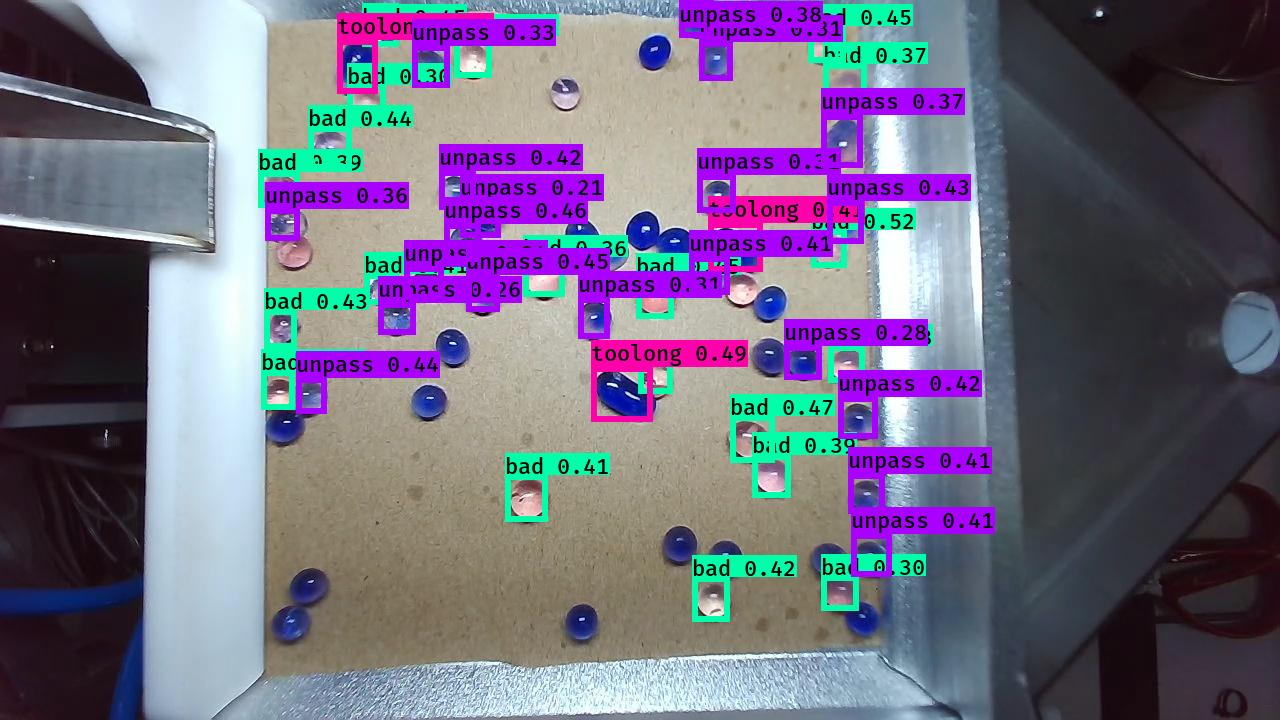bad: (722, 419, 777, 460), (506, 476, 552, 521), (635, 275, 679, 320), (826, 68, 869, 113), (258, 173, 305, 213), (453, 37, 494, 81), (306, 133, 352, 172), (276, 233, 319, 273), (695, 579, 733, 621), (523, 259, 562, 299), (752, 459, 793, 497), (262, 311, 301, 350), (809, 29, 846, 69), (830, 347, 866, 385), (811, 233, 850, 268), (348, 86, 384, 123), (819, 578, 860, 610), (722, 270, 758, 306), (363, 7, 399, 42), (548, 78, 583, 112), (642, 363, 675, 399), (261, 375, 296, 408), (365, 269, 397, 302)
defact: (595, 234, 631, 271)
pass: (562, 214, 600, 263), (263, 408, 306, 449), (287, 568, 330, 609), (270, 604, 311, 646), (433, 328, 475, 368), (661, 526, 700, 565), (654, 226, 693, 265), (560, 602, 598, 642), (626, 210, 664, 249), (709, 541, 745, 579), (643, 30, 676, 70), (848, 597, 879, 637)
toolong: (594, 371, 654, 423), (335, 35, 373, 100), (711, 229, 759, 273)
unpass: (822, 118, 861, 167), (839, 396, 880, 440), (808, 539, 850, 580), (850, 536, 891, 578), (410, 382, 451, 423), (750, 283, 791, 324), (459, 198, 500, 237), (378, 298, 417, 339), (786, 344, 822, 386), (412, 46, 449, 86), (575, 299, 610, 341), (445, 225, 483, 263), (697, 179, 733, 219), (697, 44, 732, 85), (265, 211, 308, 244), (678, 1, 712, 42), (850, 479, 888, 515), (462, 275, 497, 314), (832, 205, 868, 242), (689, 258, 727, 293), (410, 268, 446, 303), (441, 171, 477, 205), (292, 382, 329, 413)
